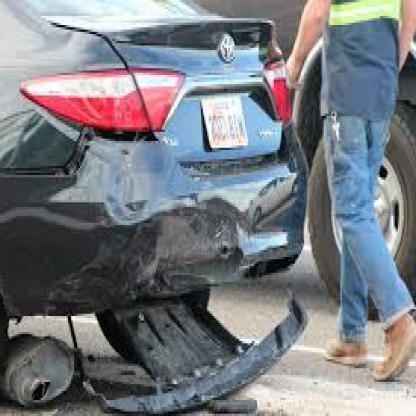dent: (100, 180, 292, 270), (3, 286, 154, 312)
